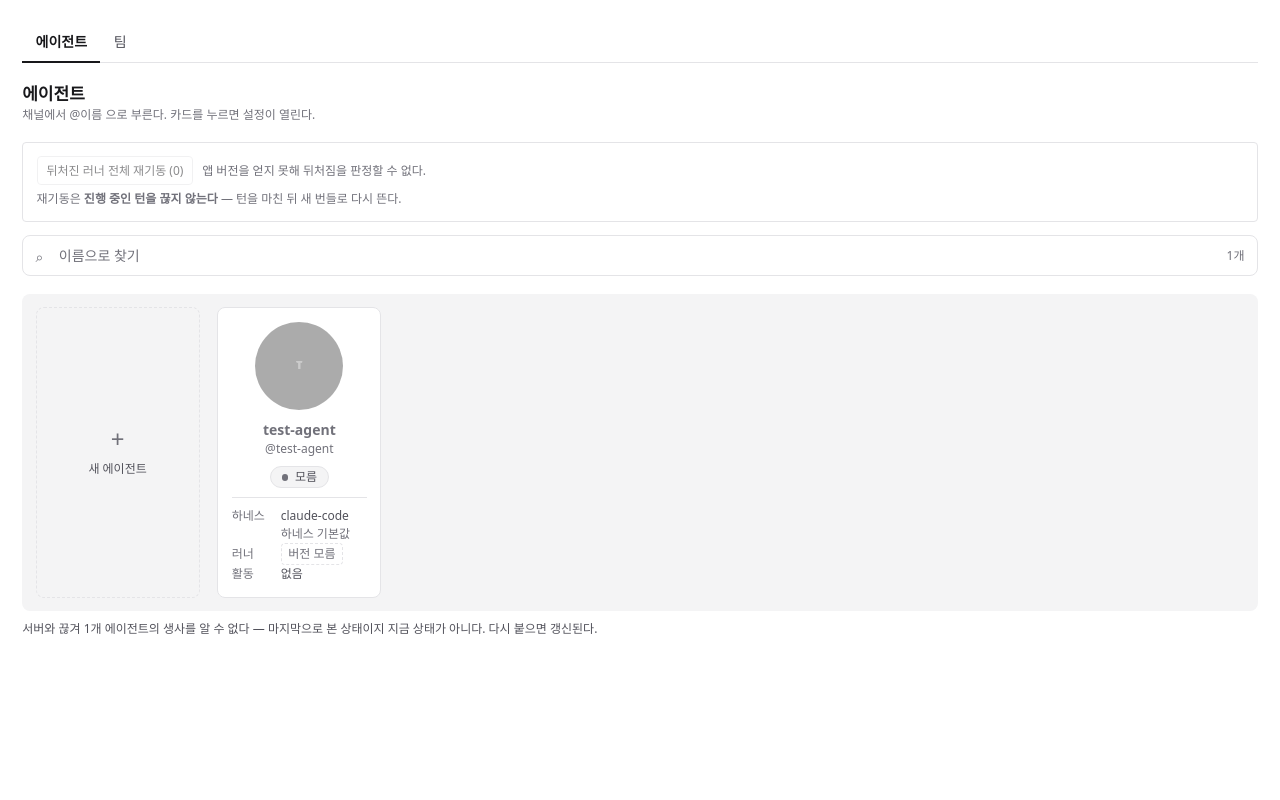
Test case: 낡은 문구 회귀선 (#431 1단계 사이드카 배포 · #482 adopted) › ④ 대조군 — 지금도 유효한 안내는 그대로 남아 있다
Click the button "T test-agent @test-agent": point(299, 390) [232, 322, 367, 458]
(page scrolled)
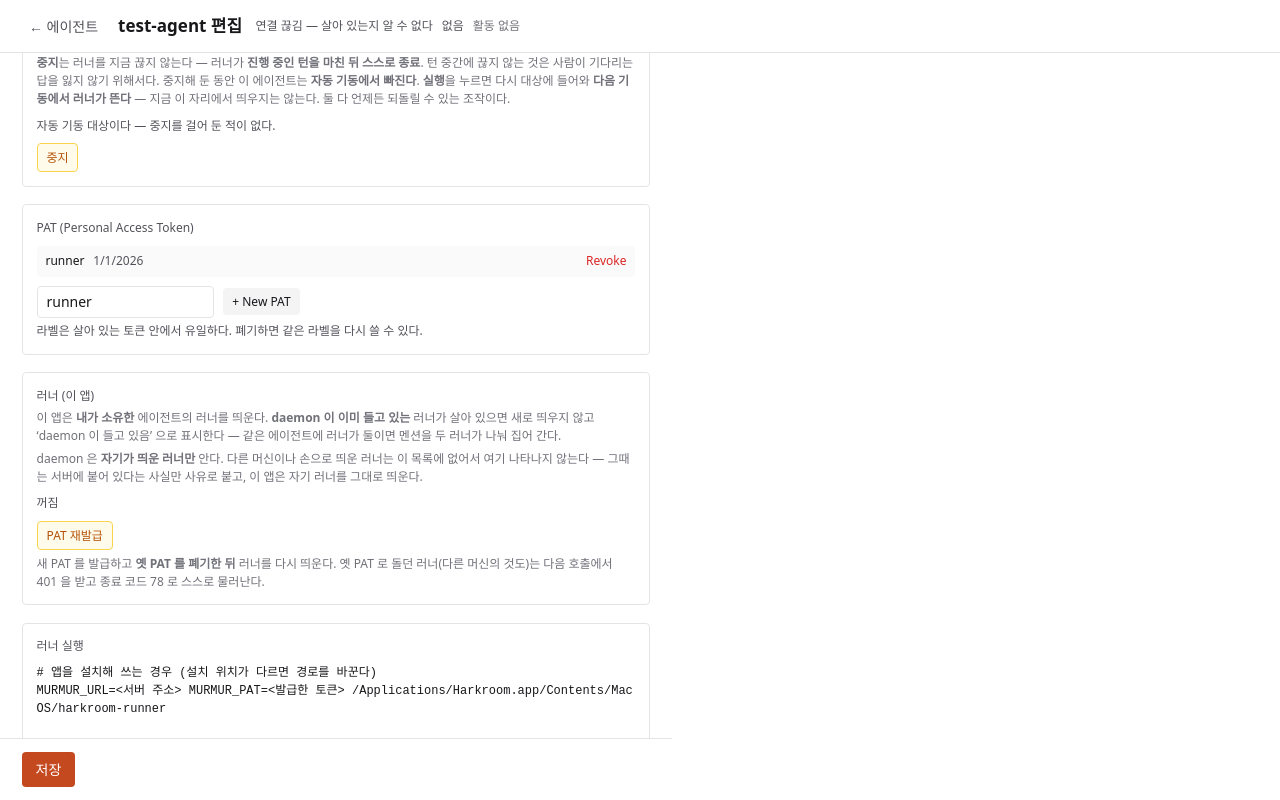
Check: the text "러너 실행" is shown, box [37, 637, 84, 654]
Check: the text "<발급한 토큰>" is shown, box [37, 666, 633, 738]
Check: the text "러너 (이 앱)" is shown, box [37, 387, 94, 404]
